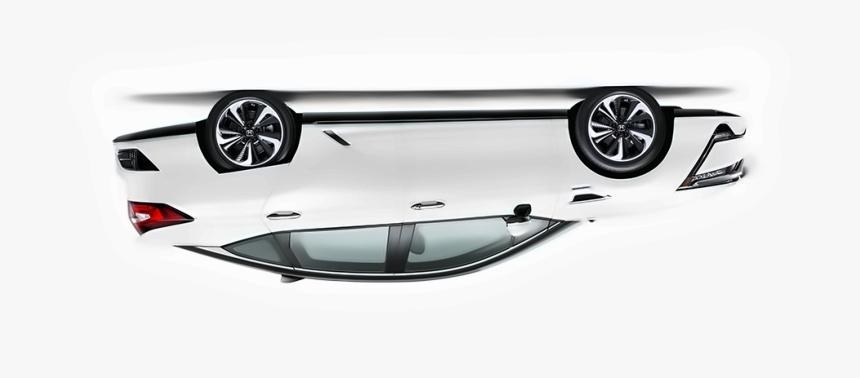Fender - -F-L-: (554, 141, 671, 233)
Fender - -R-L-: (171, 153, 300, 253)
Front bumper: (669, 100, 754, 162)
Headlight - -L-: (677, 155, 747, 201)
Passenger-s door - -F-L-: (399, 106, 570, 290)
Passenger-s door - -R-L-: (257, 116, 410, 291)
Rear bumper: (107, 117, 217, 191)
Rear light - -L-: (127, 199, 195, 236)
Side bumper - -L-: (293, 104, 579, 153)
Side mirror - -L-: (502, 201, 539, 240)
